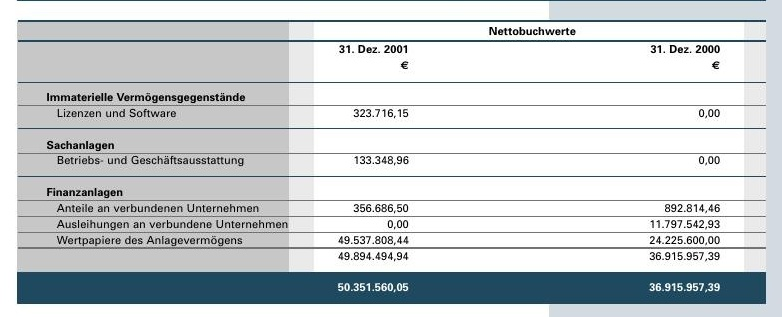table: (0, 0, 782, 317)
